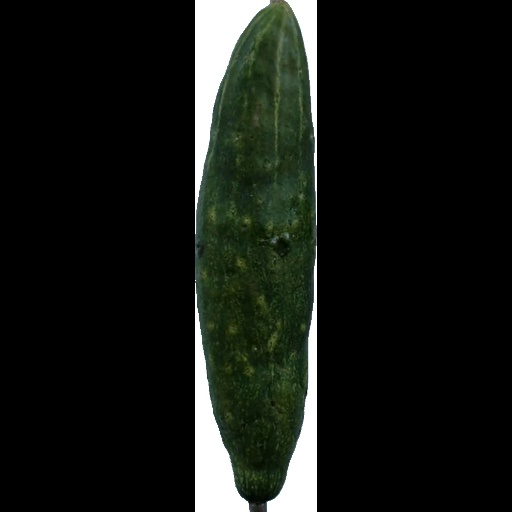concombre: (196, 1, 318, 512)
